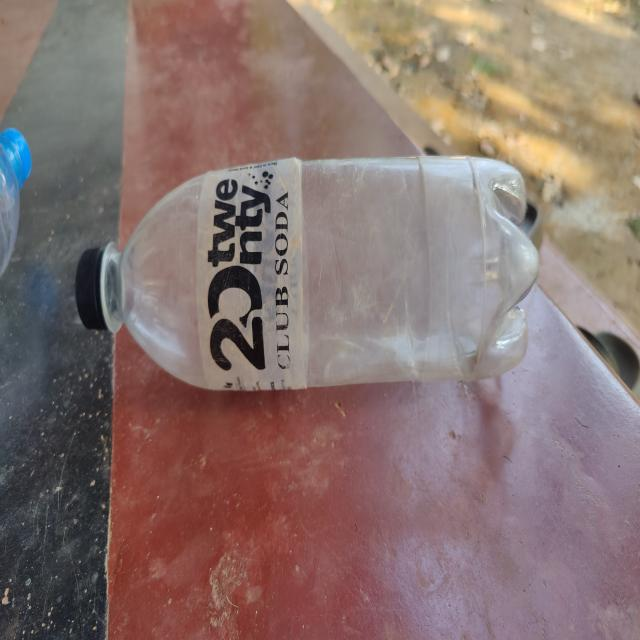plastic: (71, 150, 542, 396)
